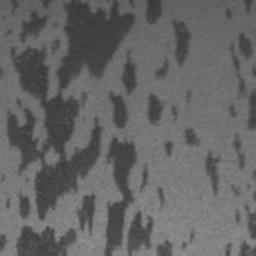Red iron sheet: (0, 0, 256, 256), (221, 0, 253, 20)
